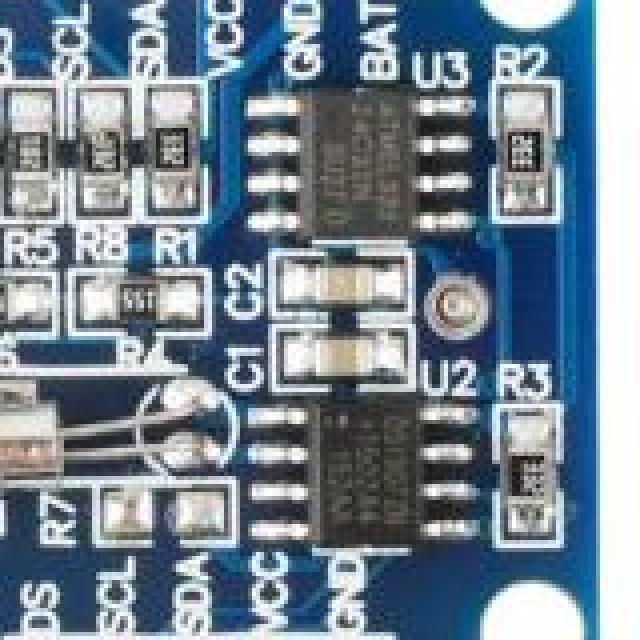IC: (284, 64, 438, 246), (300, 388, 434, 544)
capacitor: (292, 332, 420, 386), (312, 268, 400, 318)
clock: (0, 392, 220, 516)
resistor: (492, 408, 578, 556), (500, 80, 556, 234), (92, 268, 202, 326), (148, 100, 202, 218), (16, 96, 56, 218), (88, 104, 128, 218), (0, 280, 16, 340)
